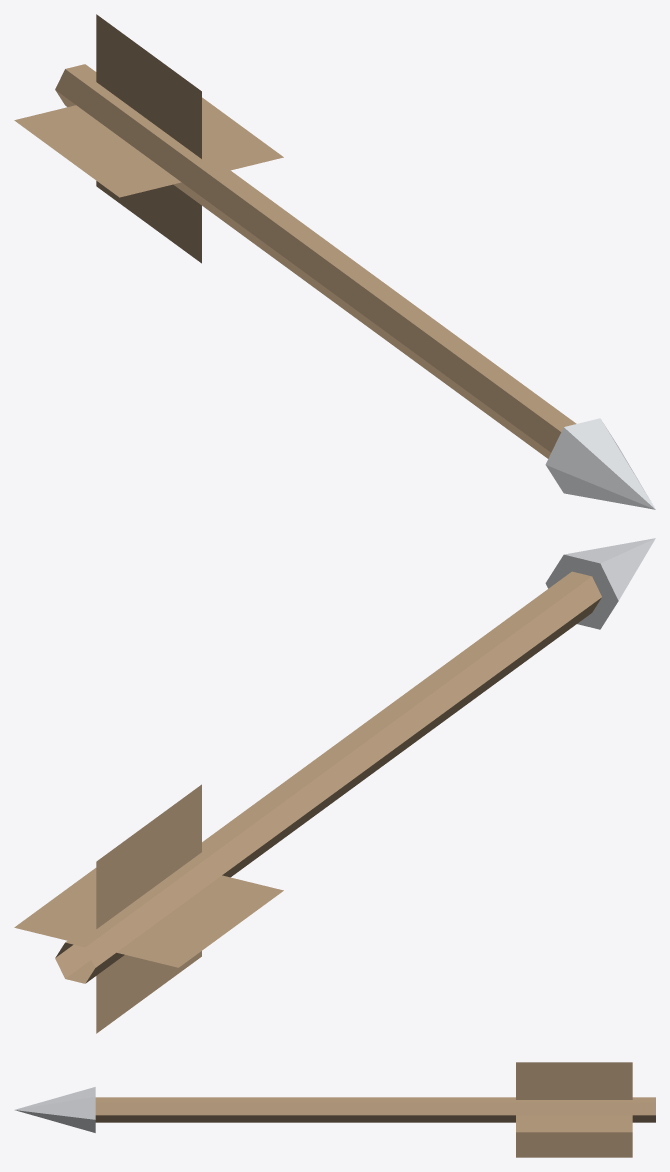
Rendered from PROP_Archer_Arrow.fbx.
The picture shows the model from 3 angles, top to bottom: view 1: azimuth 30°, elevation 25°; view 2: azimuth 150°, elevation 25°; view 3: azimuth 270°, elevation 25°; orthographic projection. The views are drawn at different scales.
Parts seen in each view (by area): view 1: PROP_Archer_Arrow; view 2: PROP_Archer_Arrow; view 3: PROP_Archer_Arrow.
Part boxes in pixels (bbox=[...]): PROP_Archer_Arrow: bbox=[14, 14, 655, 509]; PROP_Archer_Arrow: bbox=[14, 538, 655, 1033]; PROP_Archer_Arrow: bbox=[15, 1062, 655, 1157].
Bounding box in the file's own units: 0.09 × 0.09 × 0.55.
